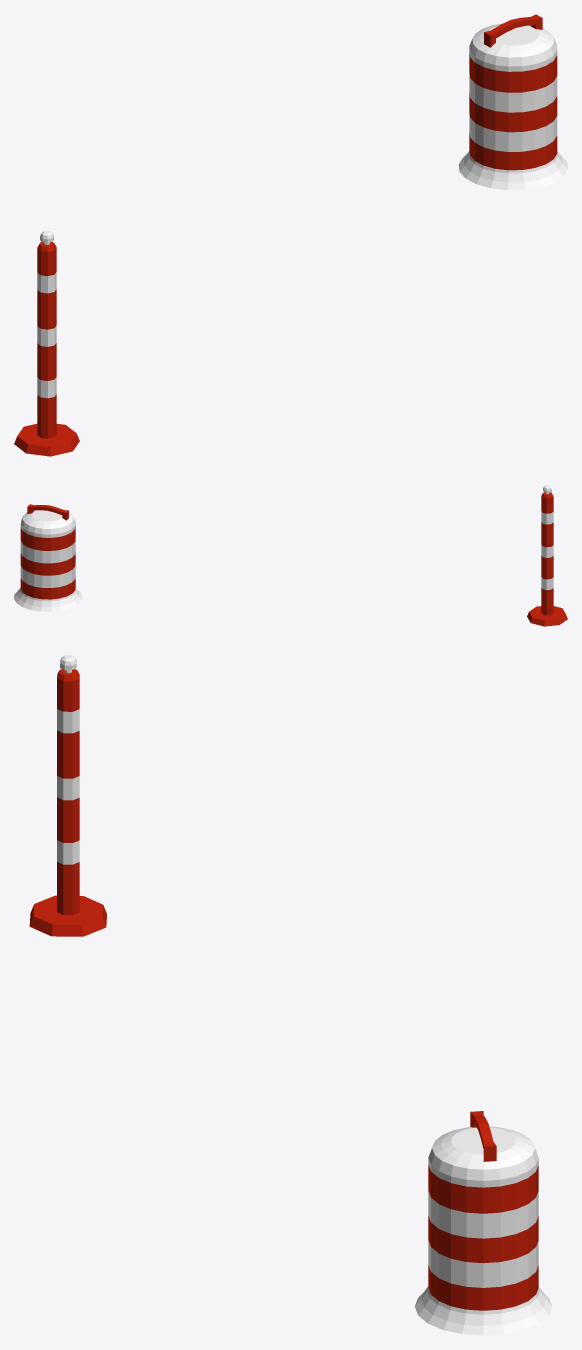
The picture shows the model from 3 angles, top to bottom: view 1: azimuth 30°, elevation 25°; view 2: azimuth 150°, elevation 25°; view 3: azimuth 270°, elevation 25°; orthographic projection. The views are drawn at different scales.
Parts seen in each view (by area): view 1: Cylinder.001, Circle.015; view 2: Cylinder.001, Circle.015; view 3: Cylinder.001, Circle.015.
Part boxes in pixels (box(x1,y1,x2,y2)): Cylinder.001: box(458, 14, 567, 189); Circle.015: box(14, 230, 79, 456); Cylinder.001: box(14, 504, 82, 611); Circle.015: box(527, 485, 567, 626); Cylinder.001: box(415, 1111, 552, 1335); Circle.015: box(29, 655, 106, 936).
Size of the model in its own units: 2459 by 700 by 1259.
